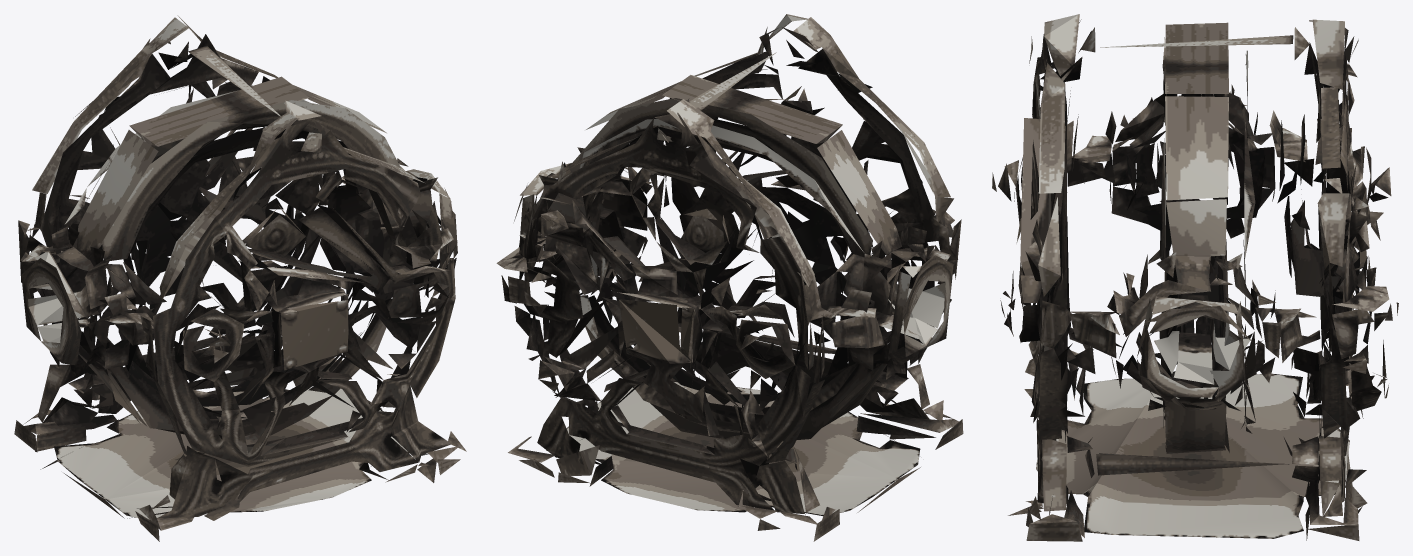
The model's file is co_dynamo.glb.
3 renders of one model, left to right at view 1: azimuth 30°, elevation 25°; view 2: azimuth 150°, elevation 25°; view 3: azimuth 270°, elevation 25°, orthographic. The views are drawn at different scales.
Visible parts, largest first — view 1: co_dynamo; view 2: co_dynamo; view 3: co_dynamo.
Part boxes in pixels (bbox=[...]): co_dynamo: bbox=[14, 15, 466, 541]; co_dynamo: bbox=[496, 14, 963, 541]; co_dynamo: bbox=[992, 14, 1398, 541].
Size of the model in its own units: 0.13 by 0.1244 by 0.1.
Materials: 1 (1 with a texture image).
